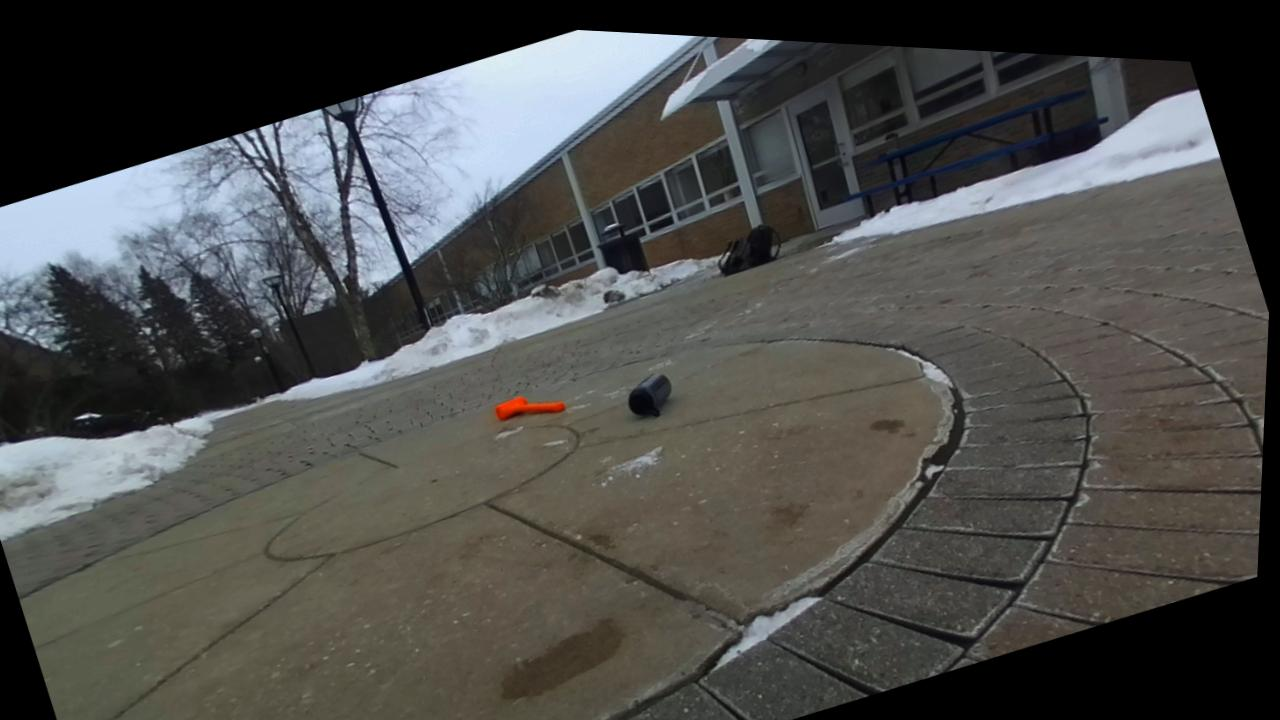bottle: (628, 374, 670, 416)
mallet: (495, 396, 565, 420)
